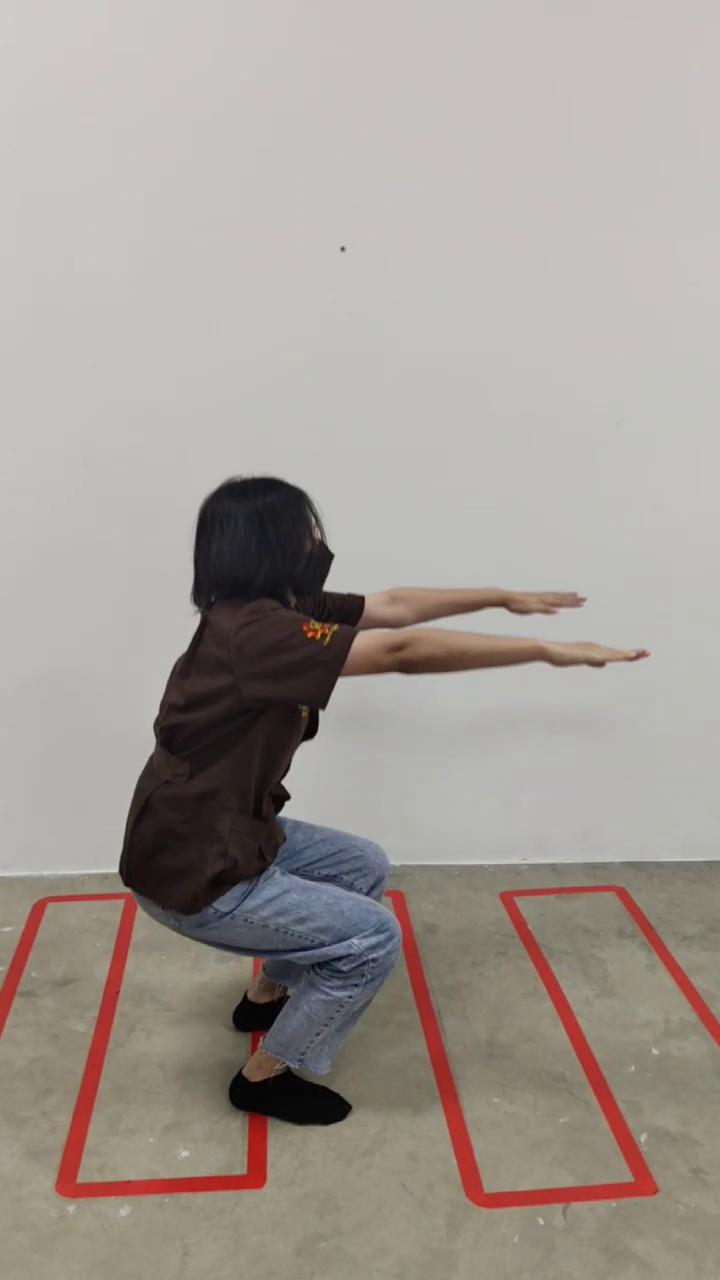squat down: (120, 478, 648, 1125)
